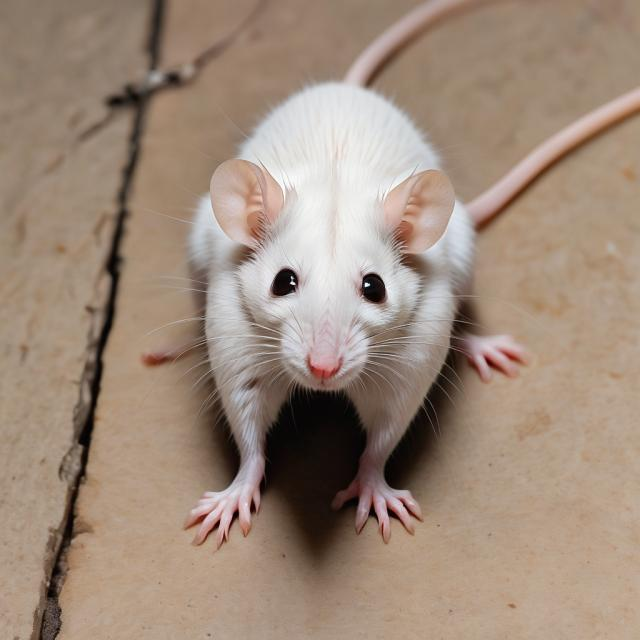rodents: (160, 64, 534, 558)
